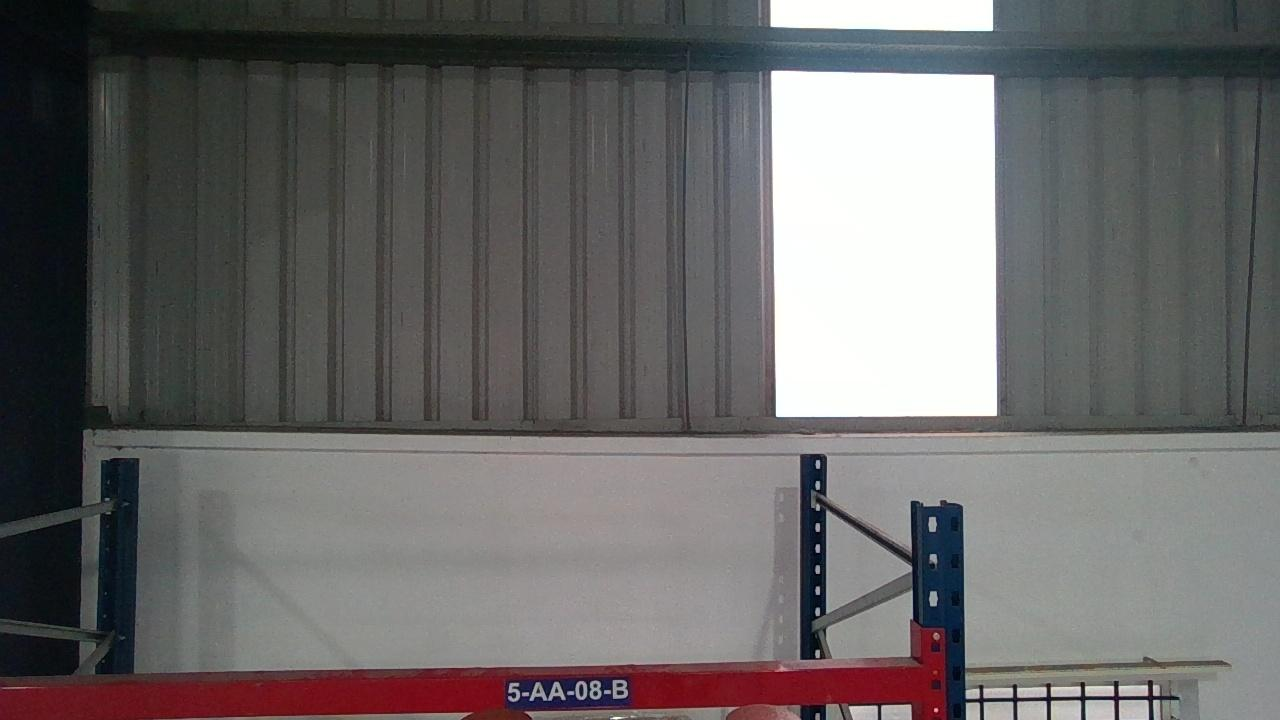h_rack: (0, 669, 926, 718)
